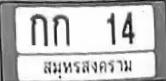1: (106, 12, 115, 44)
4: (121, 11, 134, 43)
A01: (29, 13, 47, 45), (52, 13, 69, 45)
SKM: (34, 57, 137, 79)
